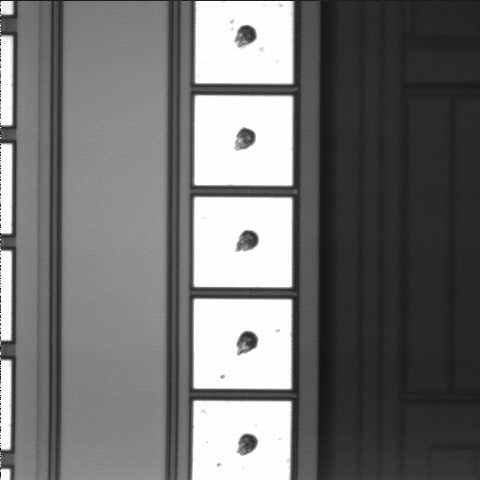pad: (194, 95, 293, 186), (194, 197, 292, 287), (194, 299, 292, 389)
